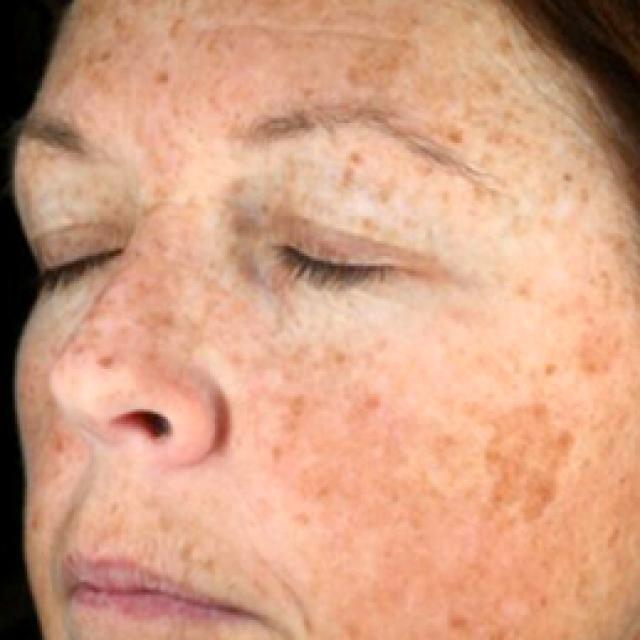Melasma: (240, 276, 640, 640), (292, 7, 640, 272), (61, 6, 241, 370), (15, 330, 74, 526)
